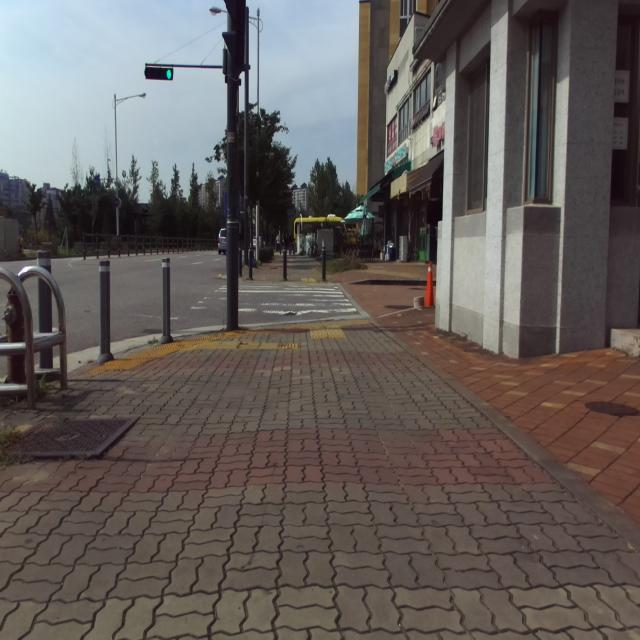횡단보도: (190, 287, 357, 315)
